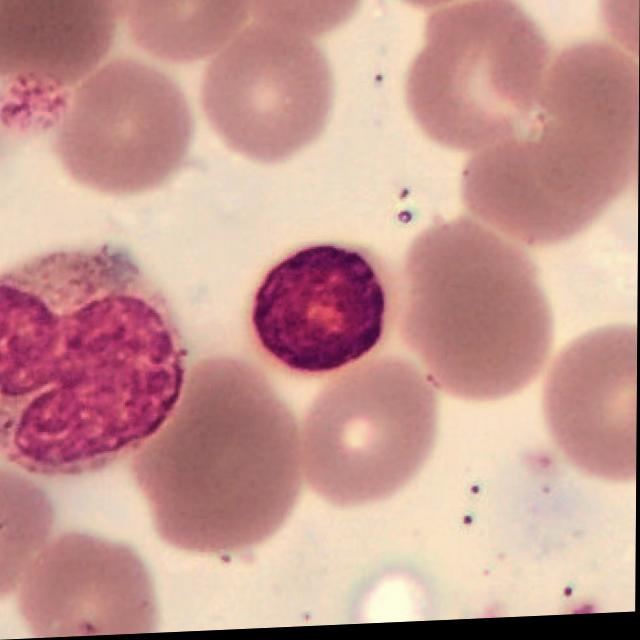Linfocito: (250, 248, 386, 378)
Metamielocito: (0, 248, 188, 478)
